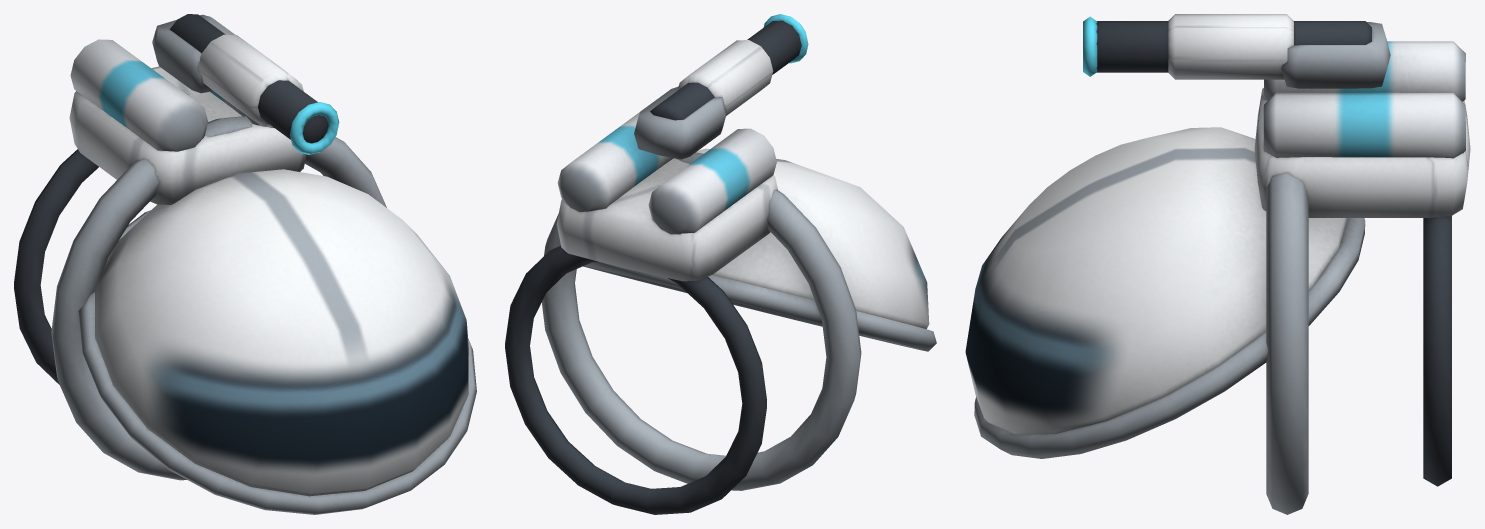
Rendered from Traje_Defensor.fbx.
3 renders of one model, left to right at view 1: azimuth 30°, elevation 25°; view 2: azimuth 150°, elevation 25°; view 3: azimuth 270°, elevation 25°, orthographic. The views are drawn at different scales.
Visible parts, largest first — view 1: Malla; view 2: Malla; view 3: Malla.
Boxes of the visible parts, x1,y1,x2,y2 form: Malla: (14, 14, 476, 514); Malla: (505, 14, 936, 514); Malla: (965, 14, 1470, 514).
Size of the model in its own units: 0.95 by 1.13 by 1.08.
Materials: 1 (1 with a texture image).
